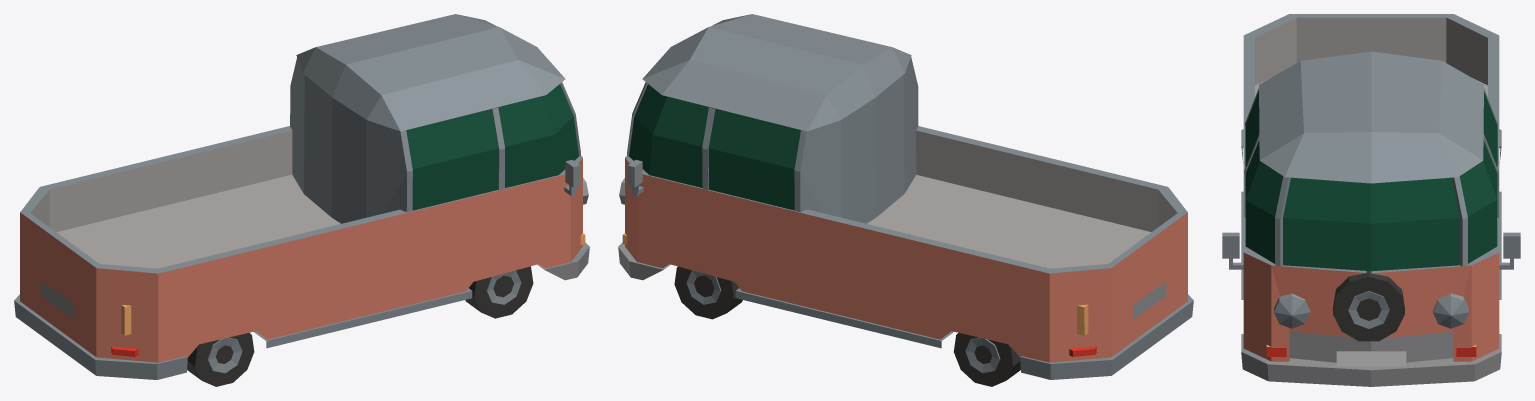
The model's file is transport_02.fbx.
The picture shows the model from 3 angles, left to right: view 1: azimuth 30°, elevation 25°; view 2: azimuth 150°, elevation 25°; view 3: azimuth 270°, elevation 25°; orthographic projection. The views are drawn at different scales.
Parts seen in each view (by area): view 1: transport_02; view 2: transport_02; view 3: transport_02.
Part boxes in pixels (left/top/right/bottom): transport_02: left=14, top=14, right=589, bottom=386; transport_02: left=618, top=14, right=1193, bottom=386; transport_02: left=1222, top=14, right=1520, bottom=386.
Size of the model in its own units: 239 by 114 by 107.
